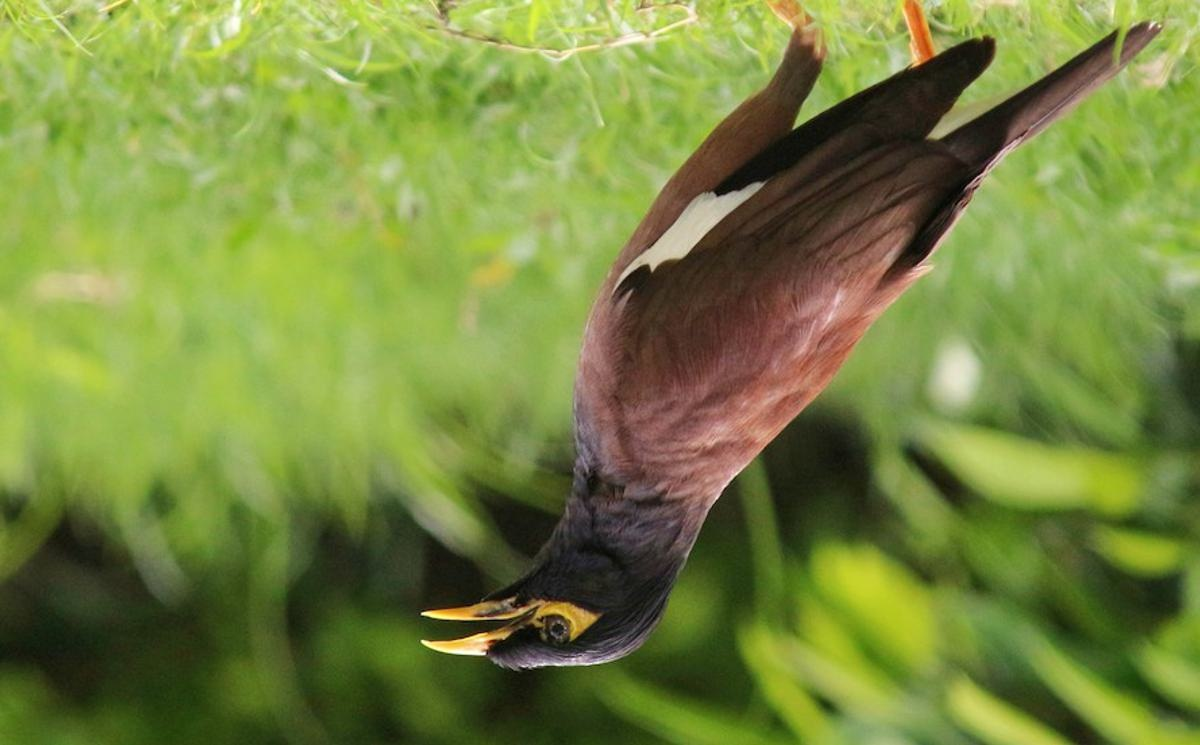myna: (396, 37, 1140, 697)
